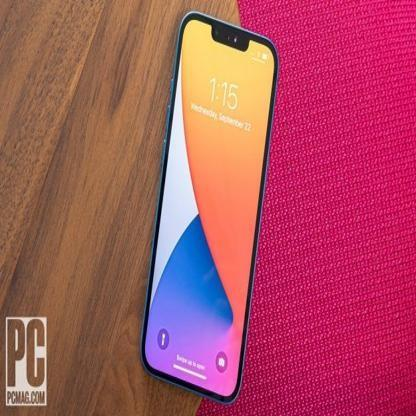not trash: (143, 11, 284, 399)
